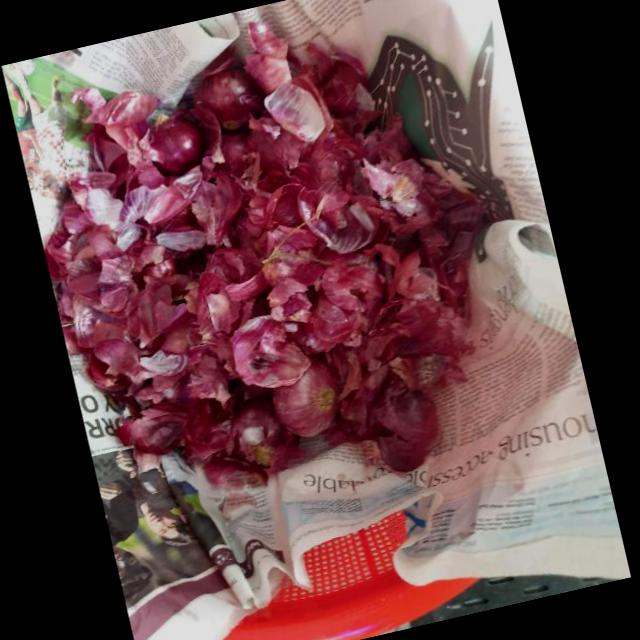vo_rau_cu: (369, 198, 489, 390), (43, 201, 145, 352), (307, 327, 418, 450), (198, 113, 356, 195), (81, 301, 203, 404), (225, 184, 340, 291), (116, 159, 205, 292), (262, 254, 369, 355), (288, 39, 382, 139), (356, 156, 470, 234), (166, 330, 269, 414), (82, 91, 165, 189), (372, 378, 443, 476), (321, 243, 398, 328), (197, 247, 266, 338), (69, 171, 143, 254), (297, 185, 386, 254), (174, 162, 246, 246), (128, 259, 193, 349), (232, 315, 312, 388), (228, 394, 295, 477), (267, 73, 337, 152), (272, 362, 342, 437), (328, 108, 417, 166), (148, 106, 221, 176), (196, 64, 270, 129), (114, 397, 190, 457), (246, 20, 291, 99), (183, 395, 232, 463)
